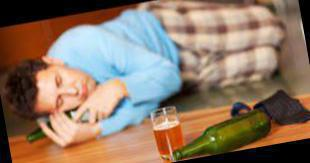Drunk: (34, 65, 96, 112)
